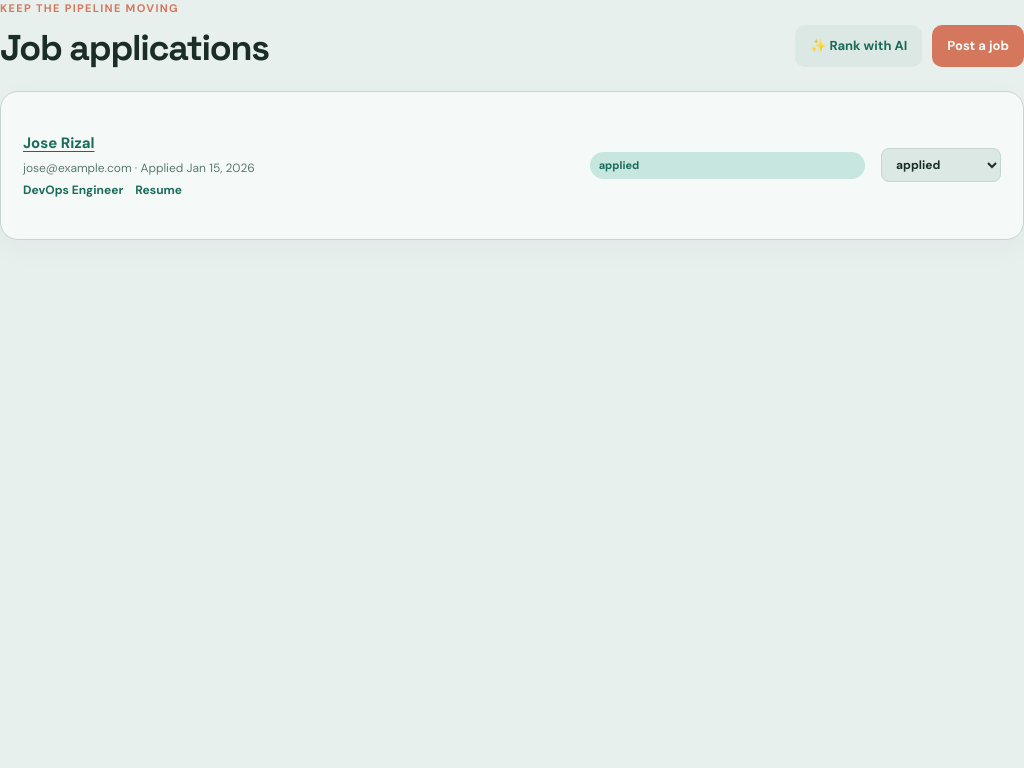
Scenario: JobApplicationsPage › opens the applicant profile modal with documents and skills
Click the button with aria-label "View profile of Jose Rizal": (59, 143) [23,132,574,155]
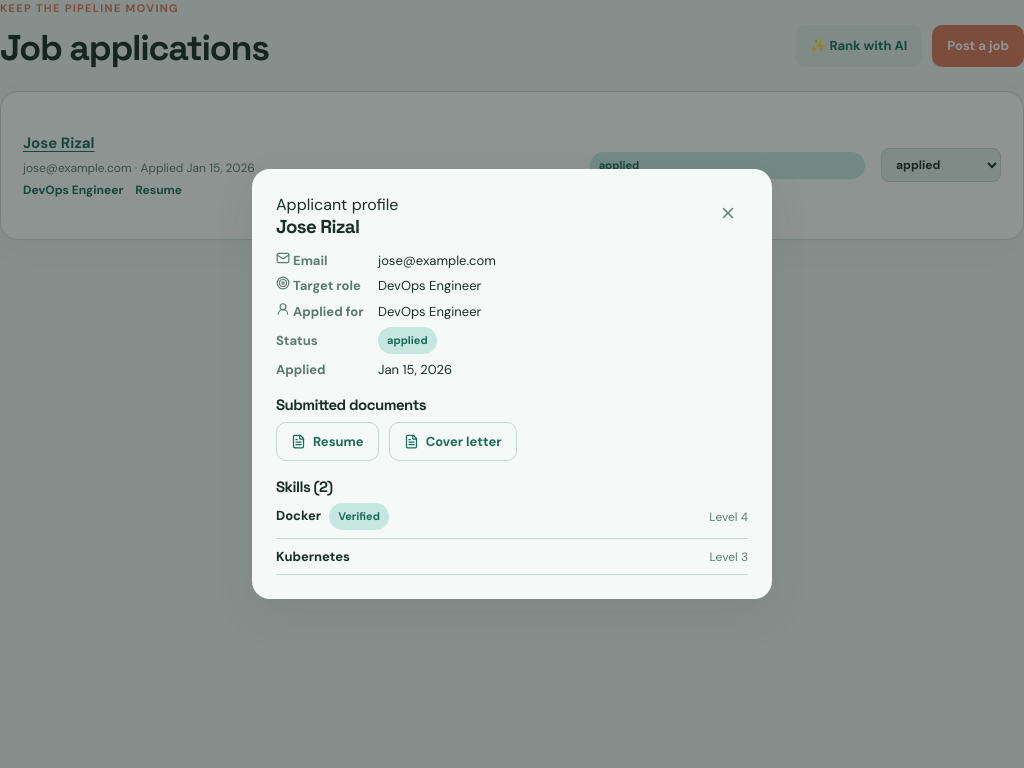
Expected: the dialog is shown, [252,169,772,599]
Expected: the heading "Submitted documents" is shown, [276,395,426,414]
Expected: the text "Docker" is shown, [276,507,321,524]
